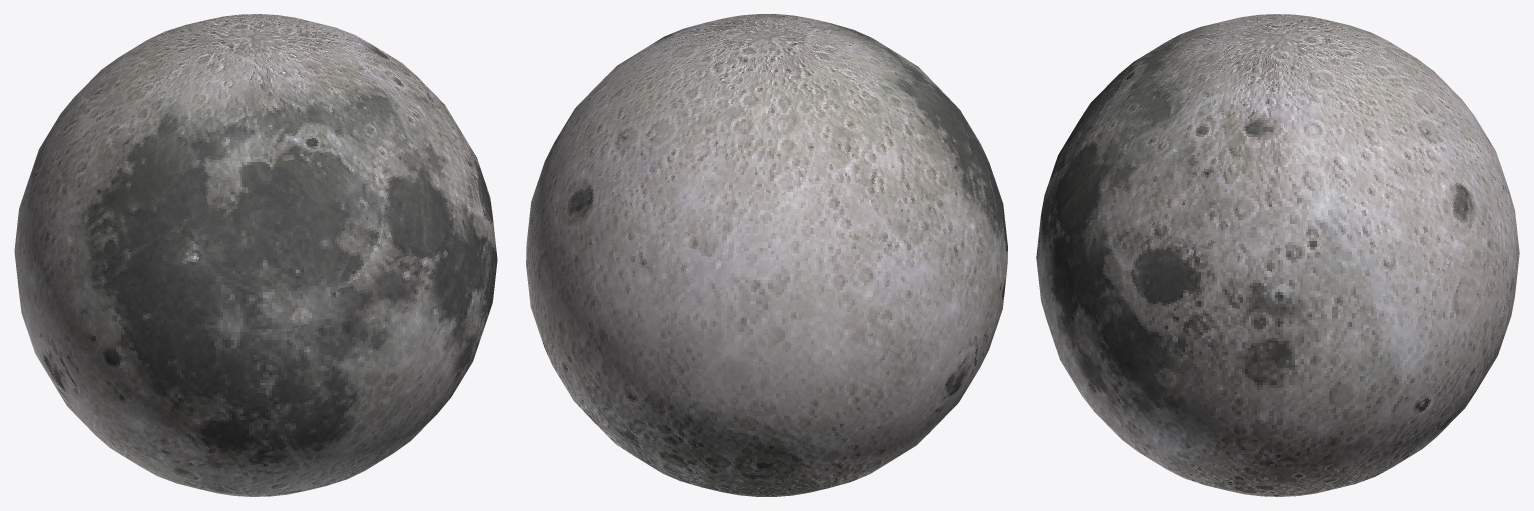
Rendered from moon.glb.
The picture shows the model from 3 angles, left to right: view 1: azimuth 30°, elevation 25°; view 2: azimuth 150°, elevation 25°; view 3: azimuth 270°, elevation 25°; orthographic projection.
Parts seen in each view (by area): view 1: moon; view 2: moon; view 3: moon.
Part boxes in pixels (box(x1,y1,x2,y2)): moon: box(14, 14, 497, 496); moon: box(526, 14, 1007, 496); moon: box(1036, 14, 1519, 496).
Bounding box in the file's own units: 2 × 2 × 2.
1 material, 1 textured.
